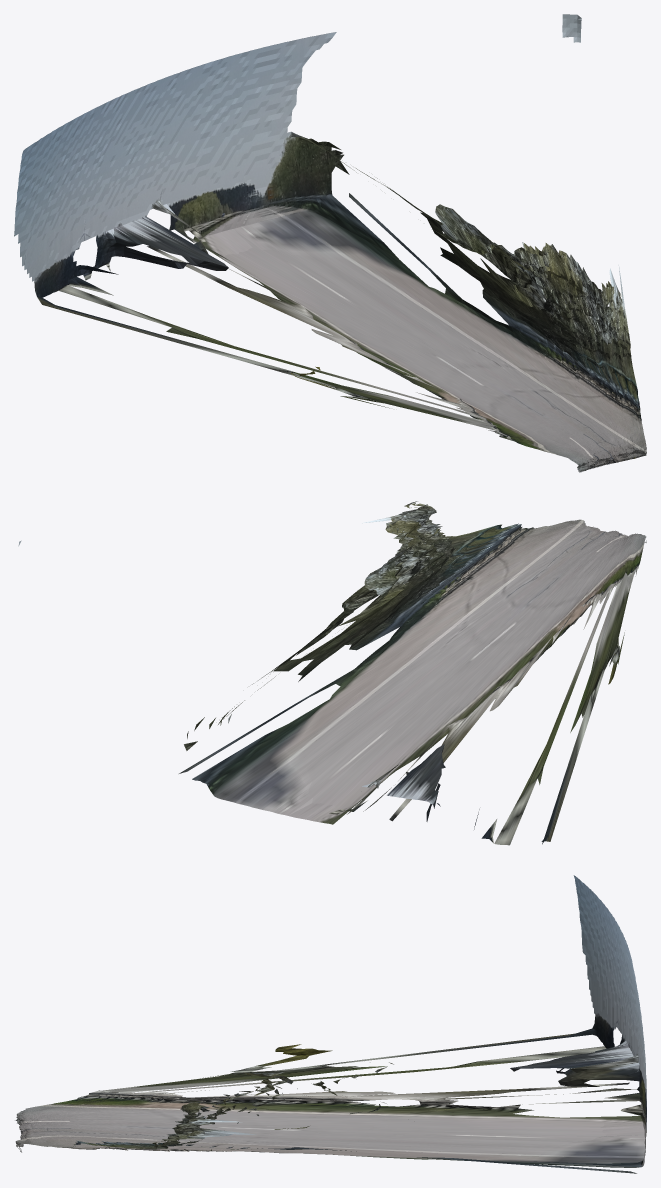
The picture shows the model from 3 angles, top to bottom: view 1: azimuth 30°, elevation 25°; view 2: azimuth 150°, elevation 25°; view 3: azimuth 270°, elevation 25°; orthographic projection. The views are drawn at different scales.
Visible parts, largest first — view 1: defaultobject; view 2: defaultobject; view 3: defaultobject.
Boxes of the visible parts, bbox=[...] form: defaultobject: bbox=[14, 14, 646, 472]; defaultobject: bbox=[18, 501, 646, 845]; defaultobject: bbox=[15, 875, 646, 1173].
Bounding box in the file's own units: 40.92 × 12.65 × 44.45.
1 material, 1 textured.
